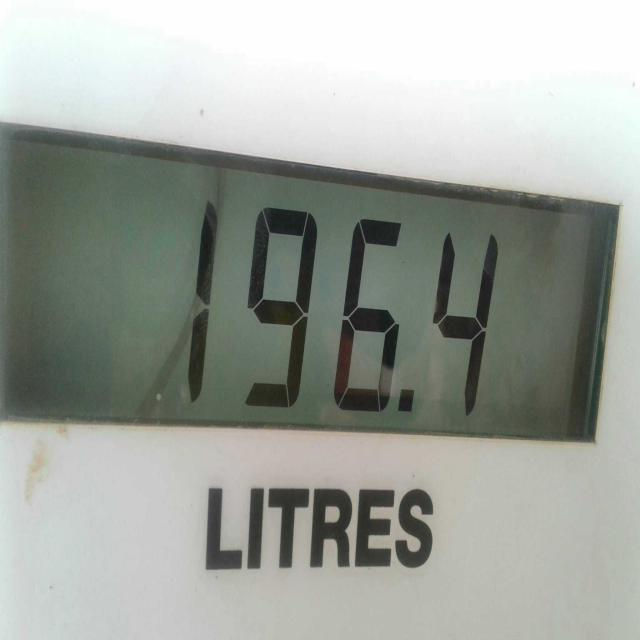.: (426, 200, 508, 430), (392, 378, 422, 430)
1: (179, 191, 235, 414)
6: (325, 201, 417, 415)
9: (237, 194, 332, 415)
